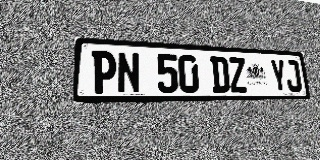0: (178, 54, 199, 93)
5: (157, 53, 179, 93)
D: (210, 56, 231, 93)
J: (284, 60, 302, 92)
N: (117, 51, 141, 94)
P: (92, 50, 116, 94)
Y: (269, 59, 288, 92)
Z: (228, 57, 248, 93)
